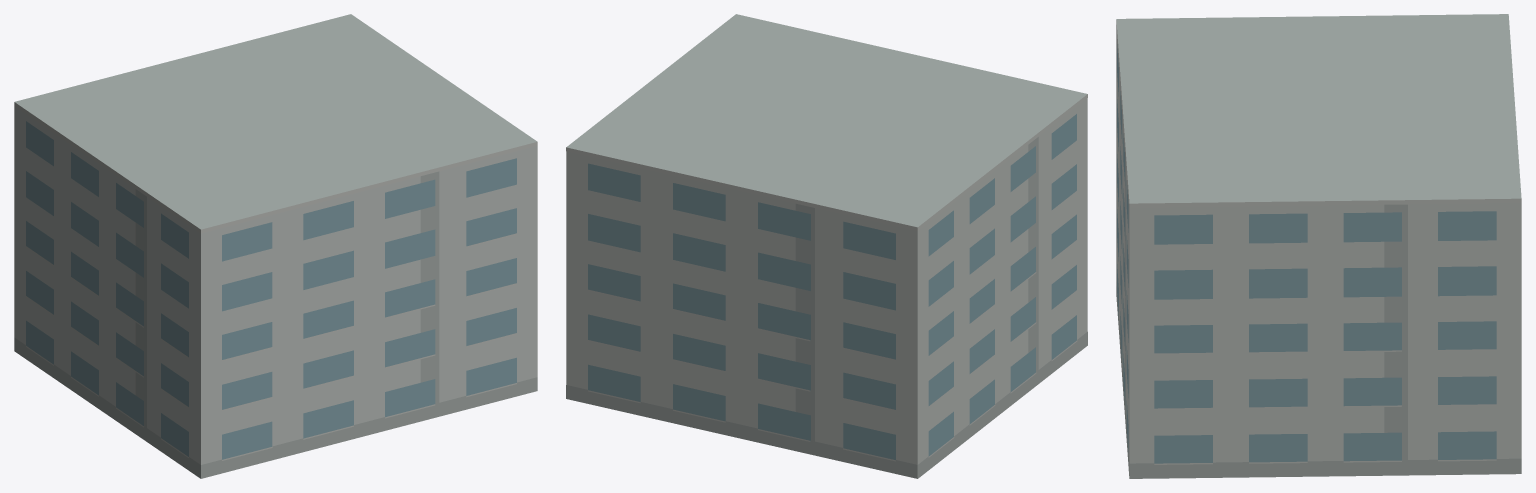
The model's file is residential-461d7c20-88bb-41db-b025-608e78fddd65.glb.
3 views of the same model, side by side, from view 1: azimuth 30°, elevation 25°; view 2: azimuth 150°, elevation 25°; view 3: azimuth 270°, elevation 25° (orthographic). The views are drawn at different scales.
Visible parts, largest first — view 1: residential-461d7c20-88bb-41db-b025-608e78fddd65.tmp; view 2: residential-461d7c20-88bb-41db-b025-608e78fddd65.tmp; view 3: residential-461d7c20-88bb-41db-b025-608e78fddd65.tmp.
Boxes of the visible parts, x1=… form: residential-461d7c20-88bb-41db-b025-608e78fddd65.tmp: x1=14, y1=14, x2=537, y2=478; residential-461d7c20-88bb-41db-b025-608e78fddd65.tmp: x1=566, y1=14, x2=1087, y2=478; residential-461d7c20-88bb-41db-b025-608e78fddd65.tmp: x1=1116, y1=14, x2=1521, y2=478.
Size of the model in its own units: 22.53 by 15.25 by 20.35.
